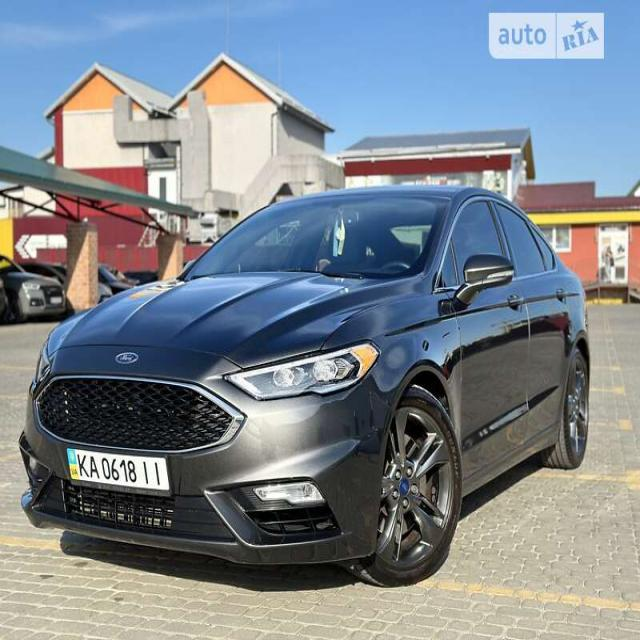plate: (65, 443, 167, 498)
